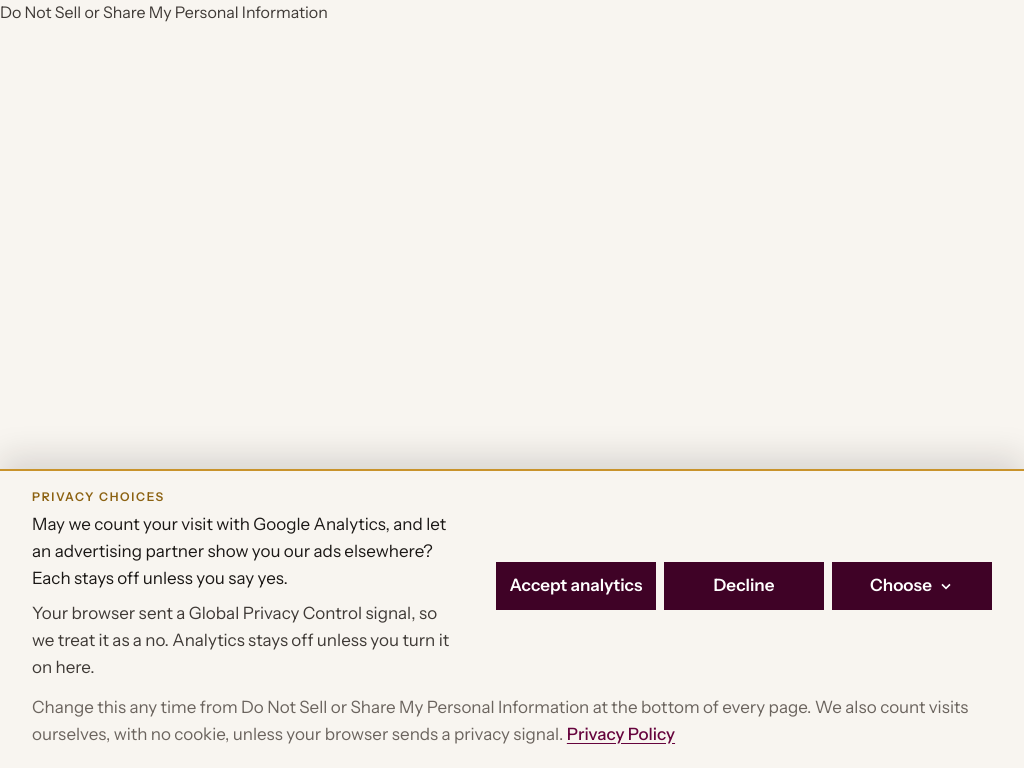
Test: with an advertising vendor listed › locks the advertising switch off under Global Privacy Control
This screenshot has width=1024, height=768.
Click the button "Choose": {"x": 912, "y": 586} [832,562,992,610]
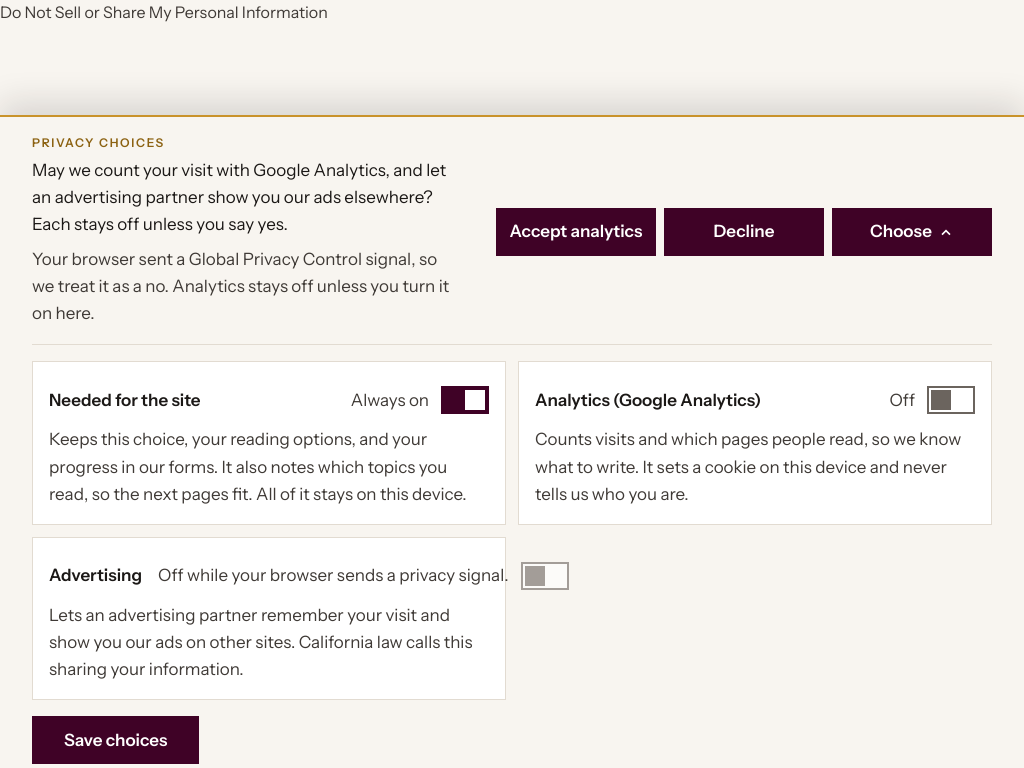
Expected: the button "Do Not Sell or Share My Personal Information" is shown, [0,0,328,24]
Result: the switch labelled "Advertising" is not checked at [49,565,509,585]
Result: the switch labelled "Advertising" is disabled at [49,565,509,585]
